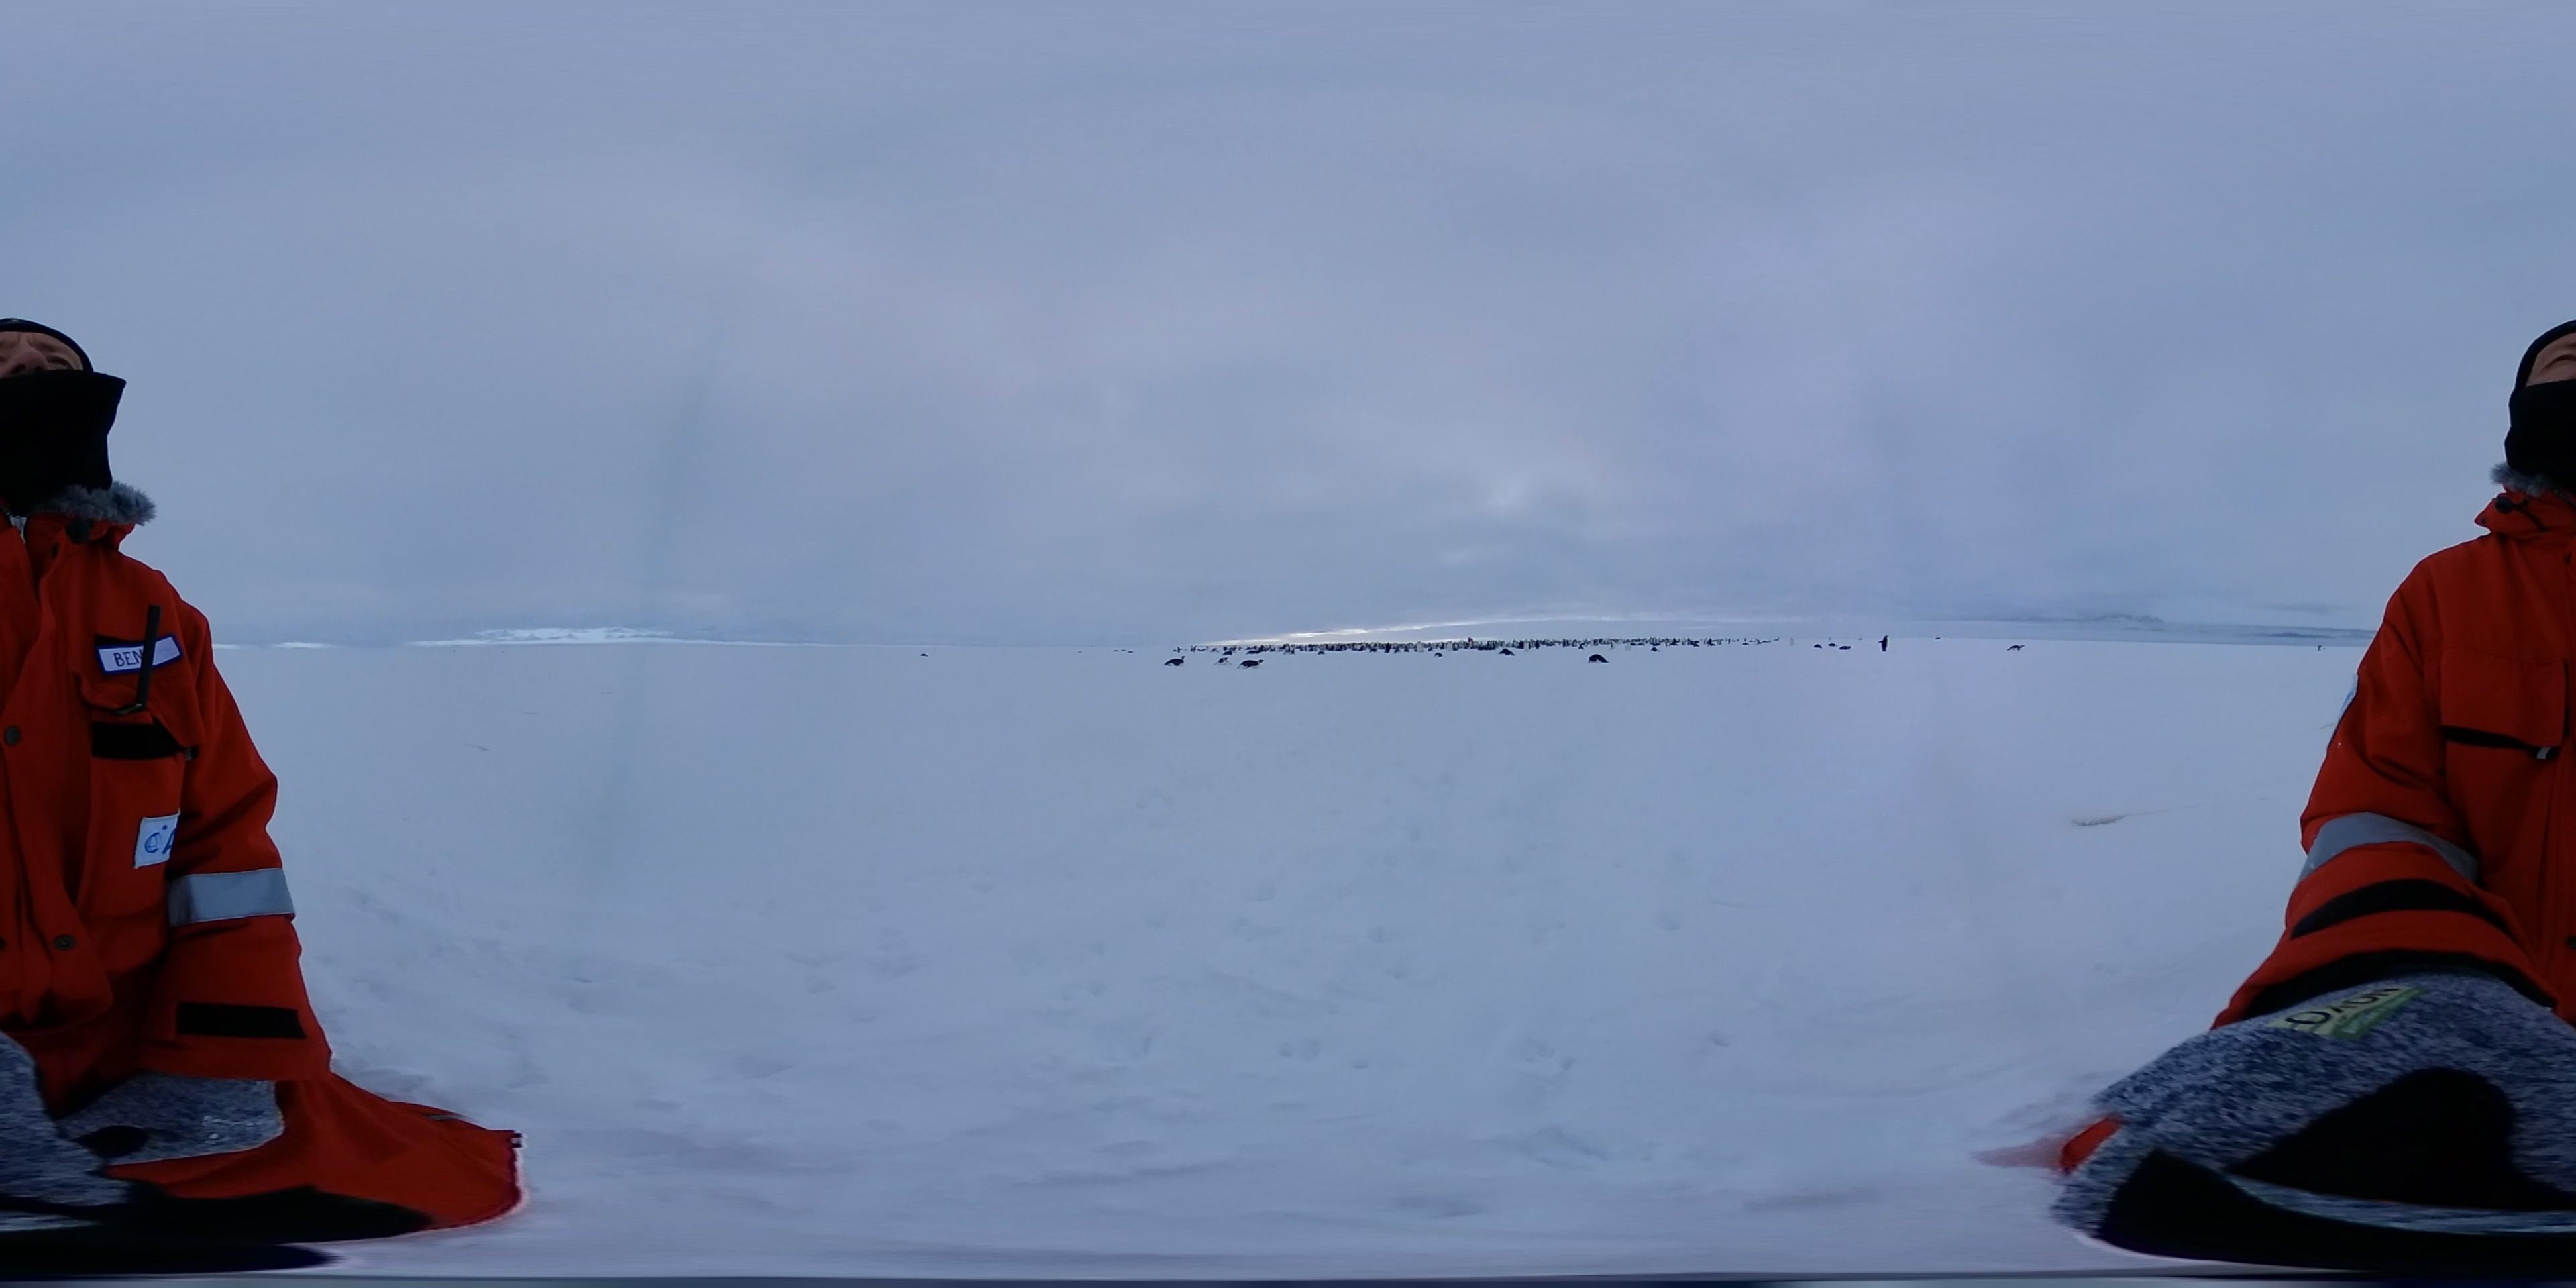adult_standing_penguin: (1874, 636, 1891, 654)
adult_toboggan_penguin: (1235, 657, 1267, 674), (1584, 654, 1607, 665), (1165, 655, 1186, 667), (1212, 657, 1232, 667), (2001, 642, 2024, 651), (1498, 647, 1515, 657)
researcher: (0, 271, 471, 1268), (2195, 299, 2576, 1258)
